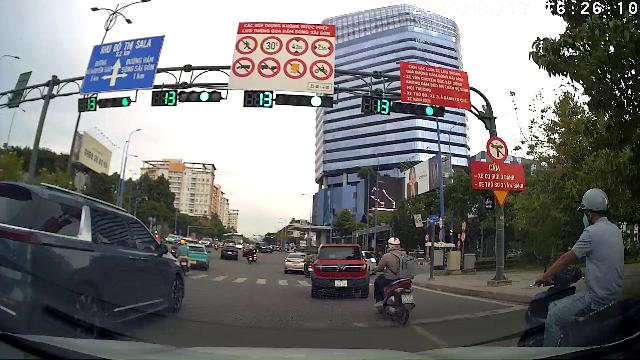137-cam-re-trai-va-re-phai: (486, 137, 508, 162)
